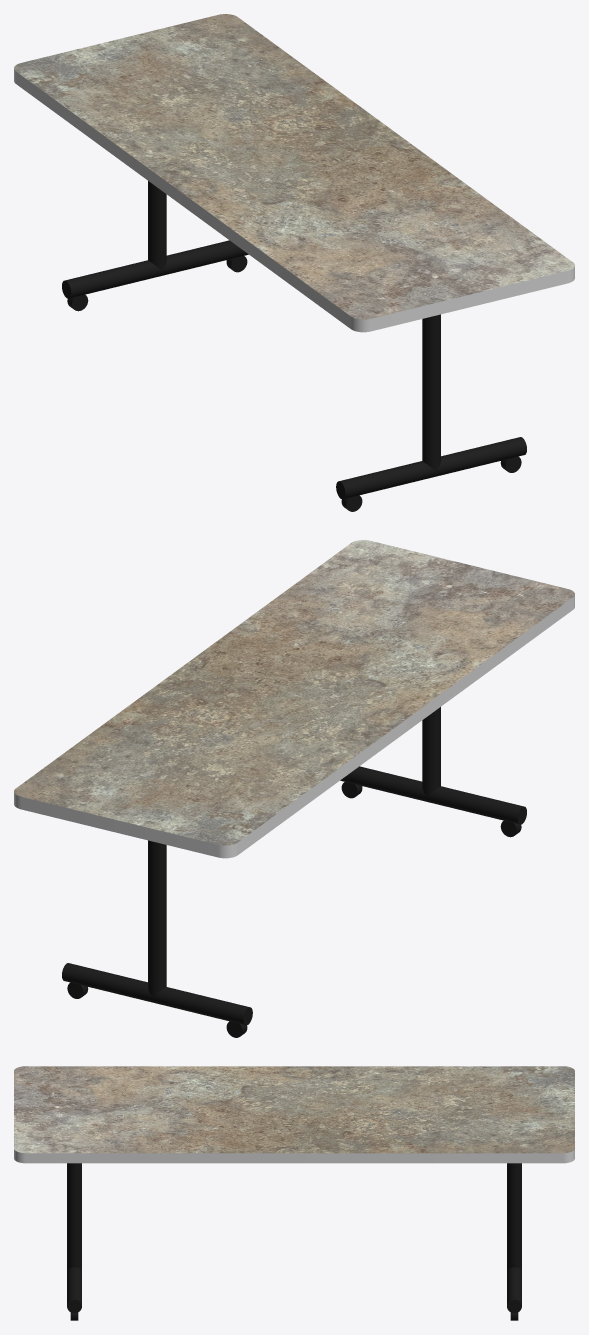
File: noycetable.fbx
The picture shows the model from 3 angles, top to bottom: view 1: azimuth 30°, elevation 25°; view 2: azimuth 150°, elevation 25°; view 3: azimuth 270°, elevation 25°; orthographic projection. The views are drawn at different scales.
Parts seen in each view (by area): view 1: Cube; view 2: Cube; view 3: Cube.
Boxes of the visible parts, x1,y1,x2,y2 form: Cube: (14,14,574,511); Cube: (14,540,574,1037); Cube: (14,1066,574,1320).
Size of the model in its own units: 2.2 by 2.11 by 6.
Materials: 5 (1 with a texture image).
